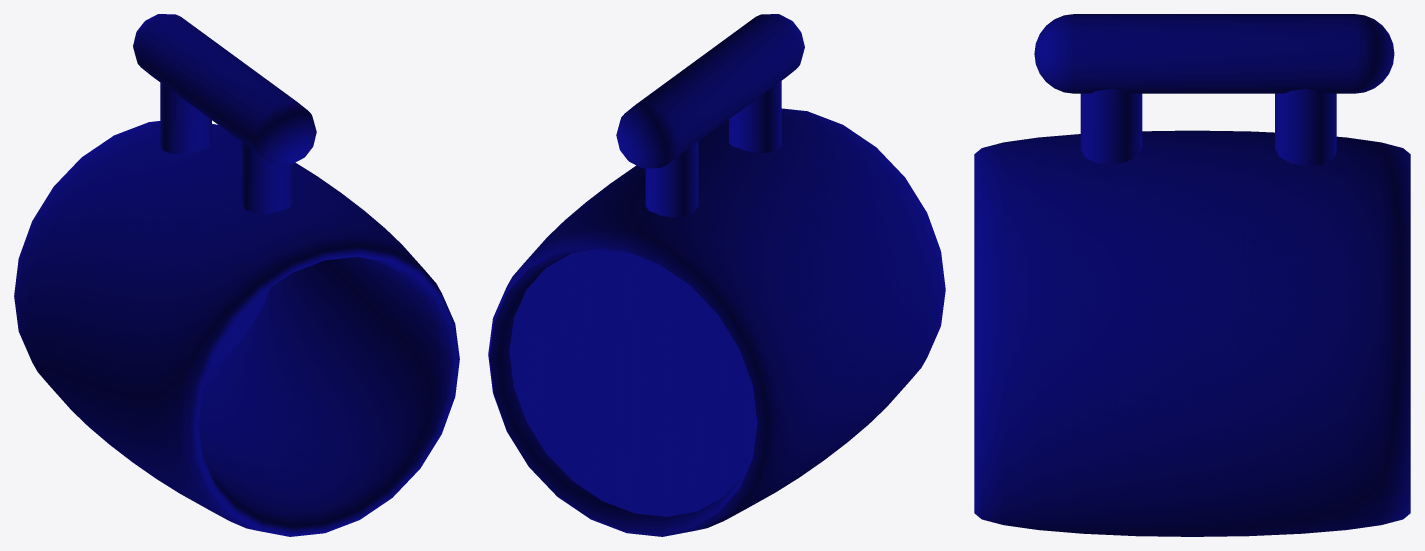
Rendered from model_scale.obj.
The picture shows the model from 3 angles, left to right: view 1: azimuth 30°, elevation 25°; view 2: azimuth 150°, elevation 25°; view 3: azimuth 270°, elevation 25°; orthographic projection. The views are drawn at different scales.
Visible parts, largest first — view 1: mesh4_mesh4-geometry, mesh2_mesh2-geometry, mesh1_mesh1-geometry, mesh3_mesh3-geometry; view 2: mesh4_mesh4-geometry, mesh2_mesh2-geometry, mesh3_mesh3-geometry, mesh1_mesh1-geometry; view 3: mesh4_mesh4-geometry, mesh2_mesh2-geometry, mesh3_mesh3-geometry, mesh1_mesh1-geometry.
Part boxes in pixels (x1,y1,x2,y2): mesh4_mesh4-geometry: (14, 121, 459, 536); mesh2_mesh2-geometry: (133, 14, 316, 164); mesh1_mesh1-geometry: (241, 141, 292, 213); mesh3_mesh3-geometry: (160, 82, 211, 153); mesh4_mesh4-geometry: (488, 108, 945, 536); mesh2_mesh2-geometry: (616, 14, 804, 168); mesh3_mesh3-geometry: (645, 141, 698, 217); mesh1_mesh1-geometry: (729, 80, 781, 152); mesh4_mesh4-geometry: (974, 130, 1410, 536); mesh2_mesh2-geometry: (1034, 14, 1394, 93); mesh3_mesh3-geometry: (1275, 89, 1336, 165); mesh1_mesh1-geometry: (1080, 89, 1142, 164).
Size of the model in its own units: 0.0857 by 0.1157 by 0.0916.
